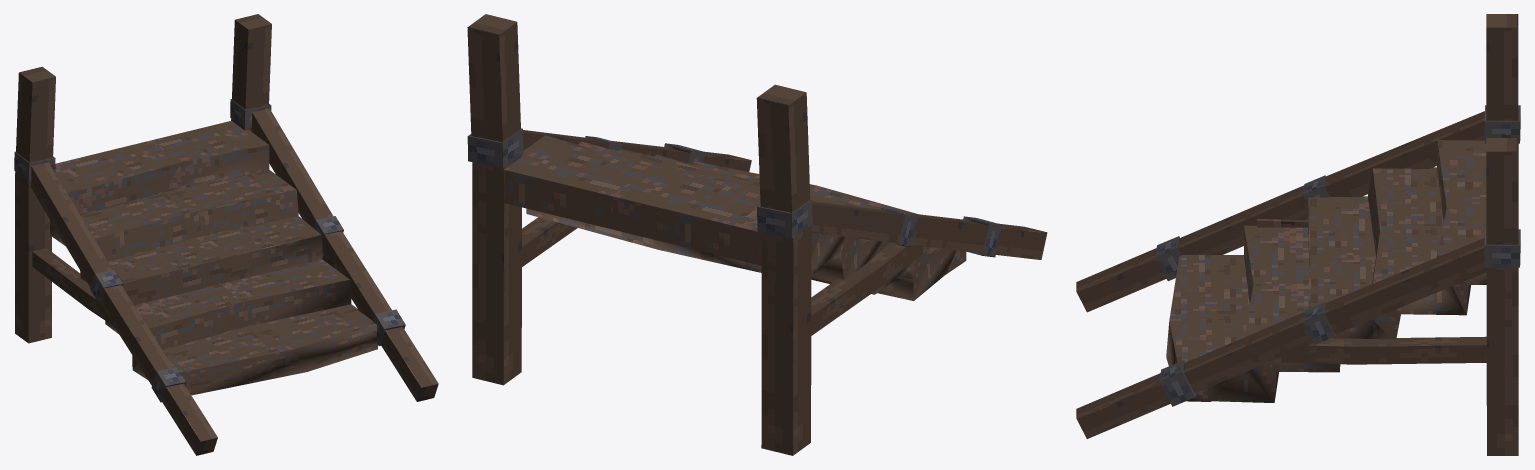
File: stairs_wood_wood.glb
3 views of the same model, side by side, from view 1: azimuth 30°, elevation 25°; view 2: azimuth 150°, elevation 25°; view 3: azimuth 270°, elevation 25° (orthographic). The views are drawn at different scales.
Parts seen in each view (by area): view 1: stairs_wood_wood; view 2: stairs_wood_wood; view 3: stairs_wood_wood.
Part boxes in pixels (x1,y1,x2,y2): stairs_wood_wood: (14,14,438,455); stairs_wood_wood: (467,14,1047,455); stairs_wood_wood: (1076,14,1520,455).
Size of the model in its own units: 2.6 by 2.63 by 3.45.
Materials: 1 (1 with a texture image).
